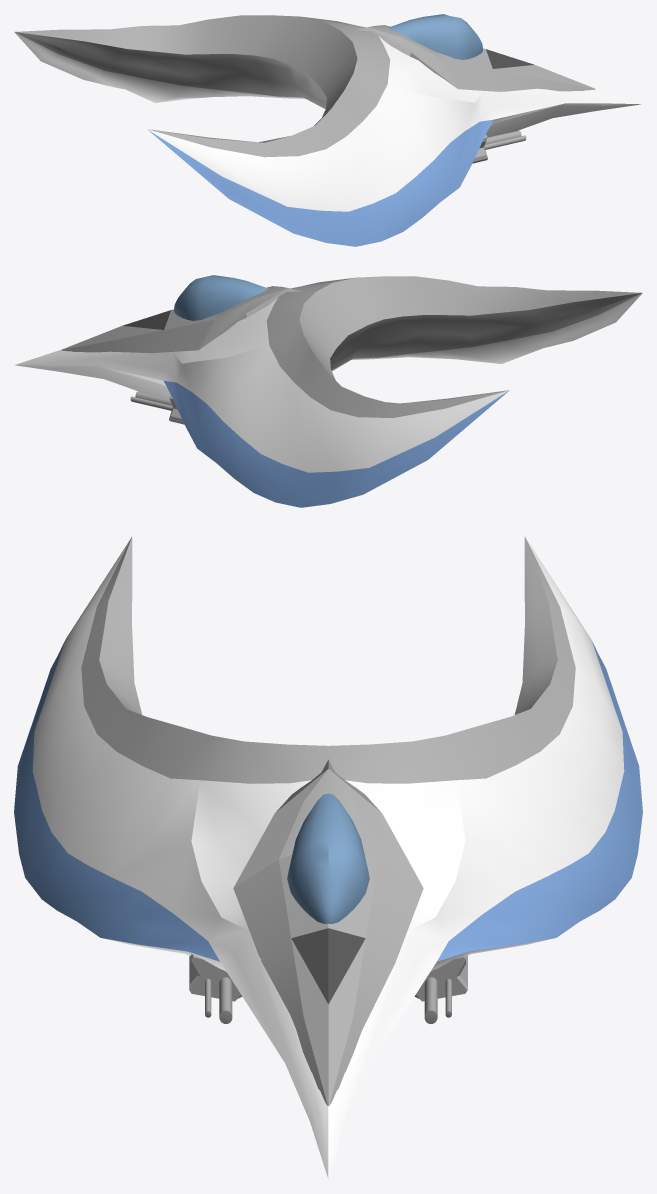
Rendered from Hero Ship.fbx.
3 renders of one model, top to bottom at view 1: azimuth 30°, elevation 25°; view 2: azimuth 150°, elevation 25°; view 3: azimuth 270°, elevation 25°, orthographic. The views are drawn at different scales.
Visible parts, largest first — view 1: Main Body, Reinforcement, Windshield; view 2: Main Body, Reinforcement, Windshield; view 3: Main Body, Reinforcement, Windshield, Gun Casing, Large.
Boxes of the visible parts, <box> form: Main Body: <box>14,15,642,246</box>; Reinforcement: <box>356,25,595,91</box>; Windshield: <box>388,14,482,59</box>; Main Body: <box>14,276,642,507</box>; Reinforcement: <box>61,286,300,353</box>; Windshield: <box>174,275,268,320</box>; Main Body: <box>14,536,642,1179</box>; Reinforcement: <box>233,759,423,1106</box>; Windshield: <box>287,793,369,923</box>; Gun Casing: <box>189,954,467,1001</box>; Large: <box>219,977,437,1023</box>.
Size of the model in its own units: 367 by 102 by 241.
